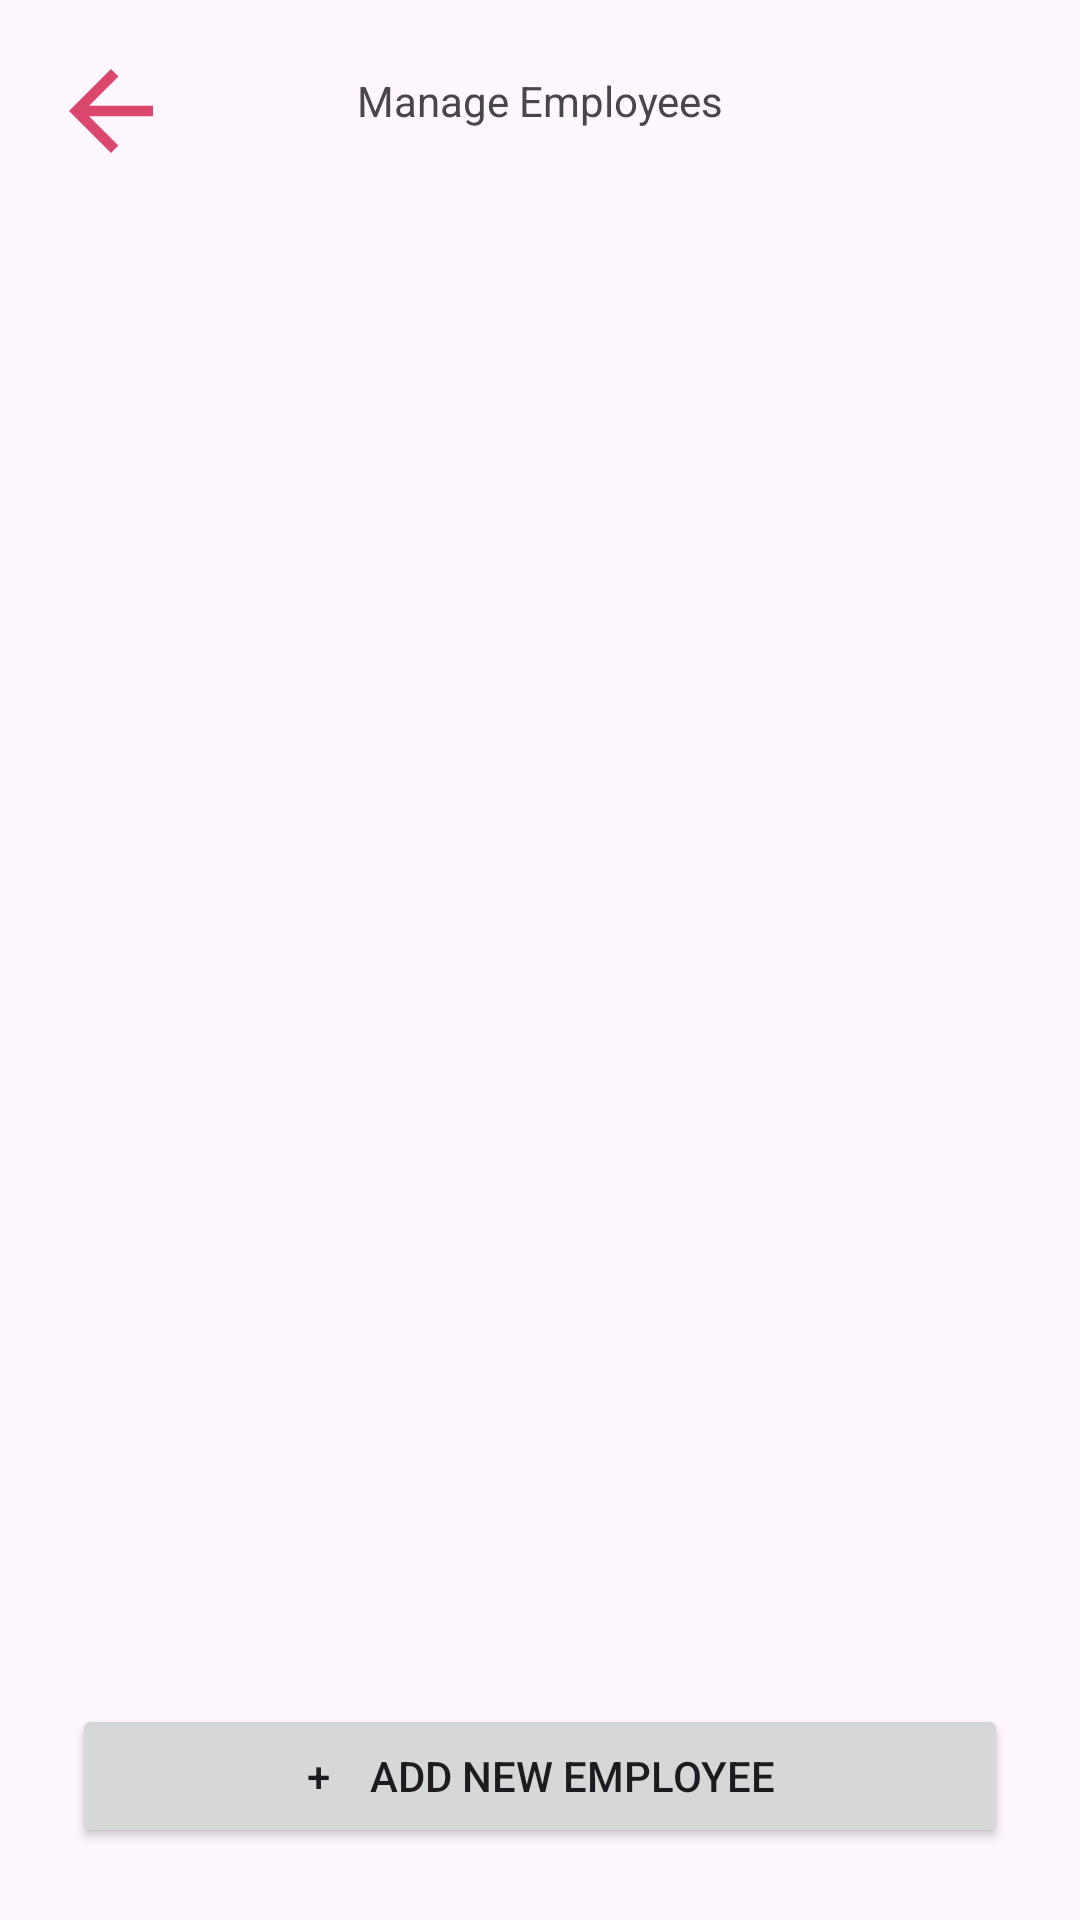

Icons on this 1080×1920 Android screen, each with its box as (x1, y1, x2, y2):
backarrow: (69, 69, 153, 153)
